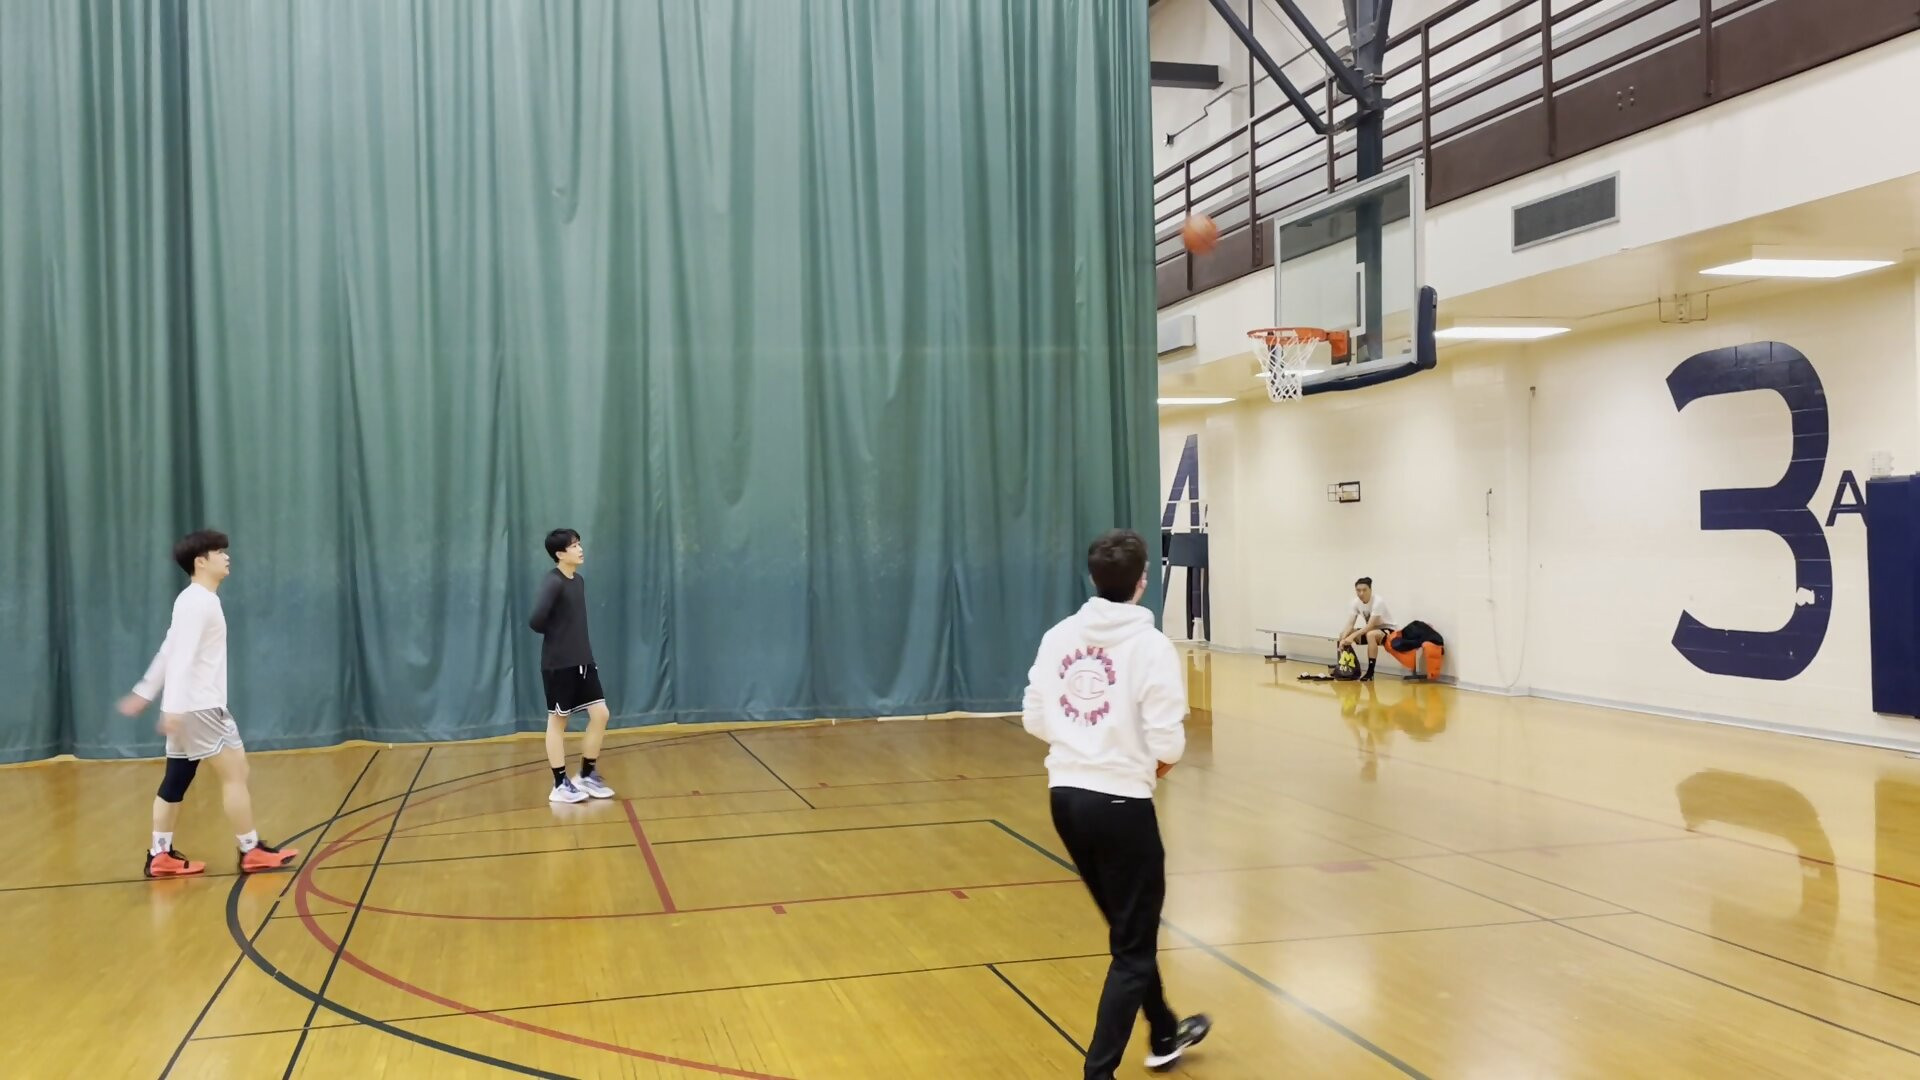ball: (1174, 214, 1219, 254)
net: (1253, 369, 1310, 407)
player: (1019, 527, 1220, 1080), (131, 530, 298, 876), (522, 525, 625, 810), (1335, 574, 1400, 693)
rim: (1240, 319, 1326, 349)
